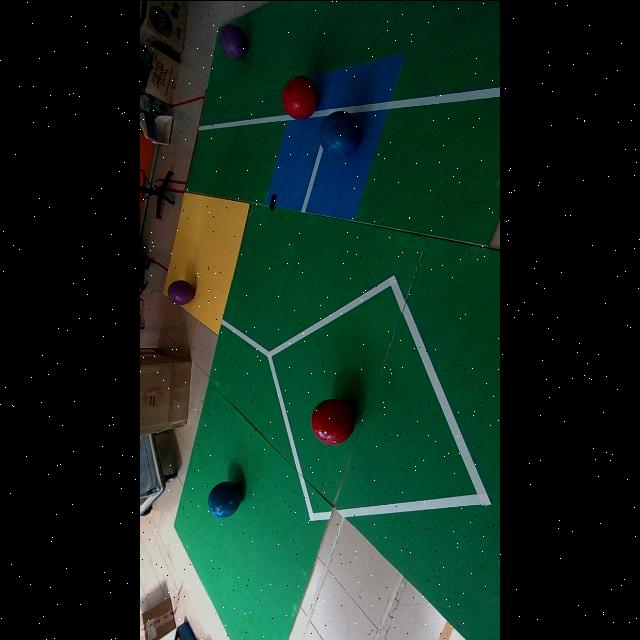B: (321, 110, 361, 155), (208, 481, 243, 518)
P: (221, 24, 248, 60), (168, 279, 194, 304)
R: (312, 399, 355, 444), (281, 75, 318, 119)
